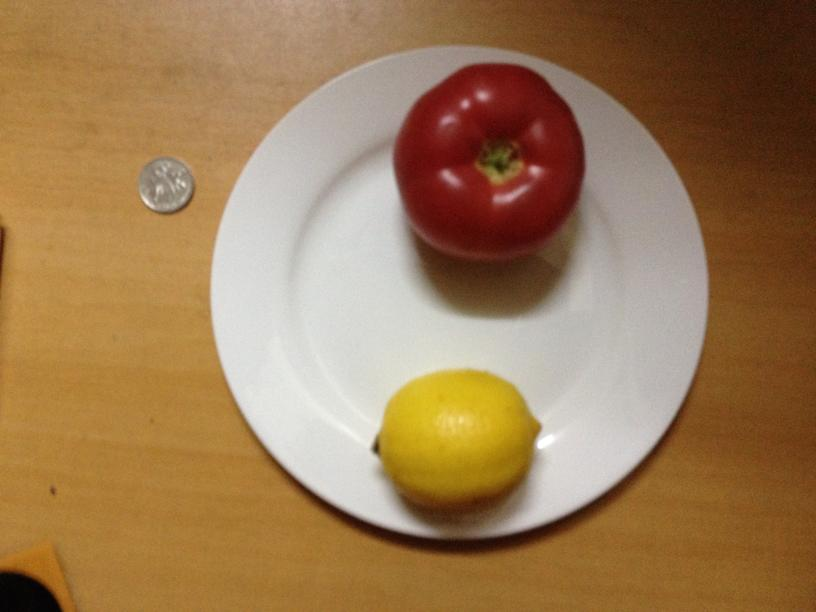coin: (137, 159, 194, 213)
lemon: (380, 366, 538, 505)
tomato: (395, 64, 586, 259)
